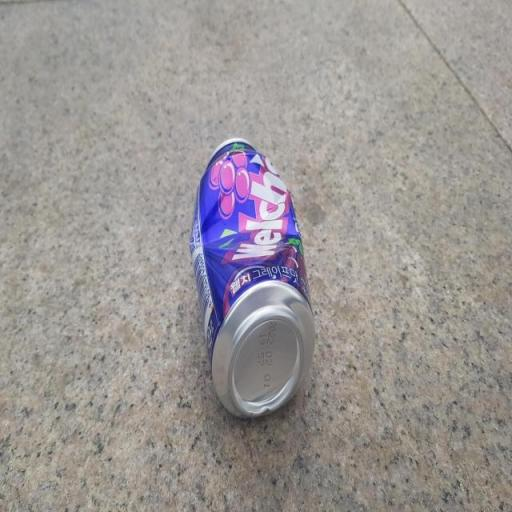metal: (180, 118, 326, 447)
